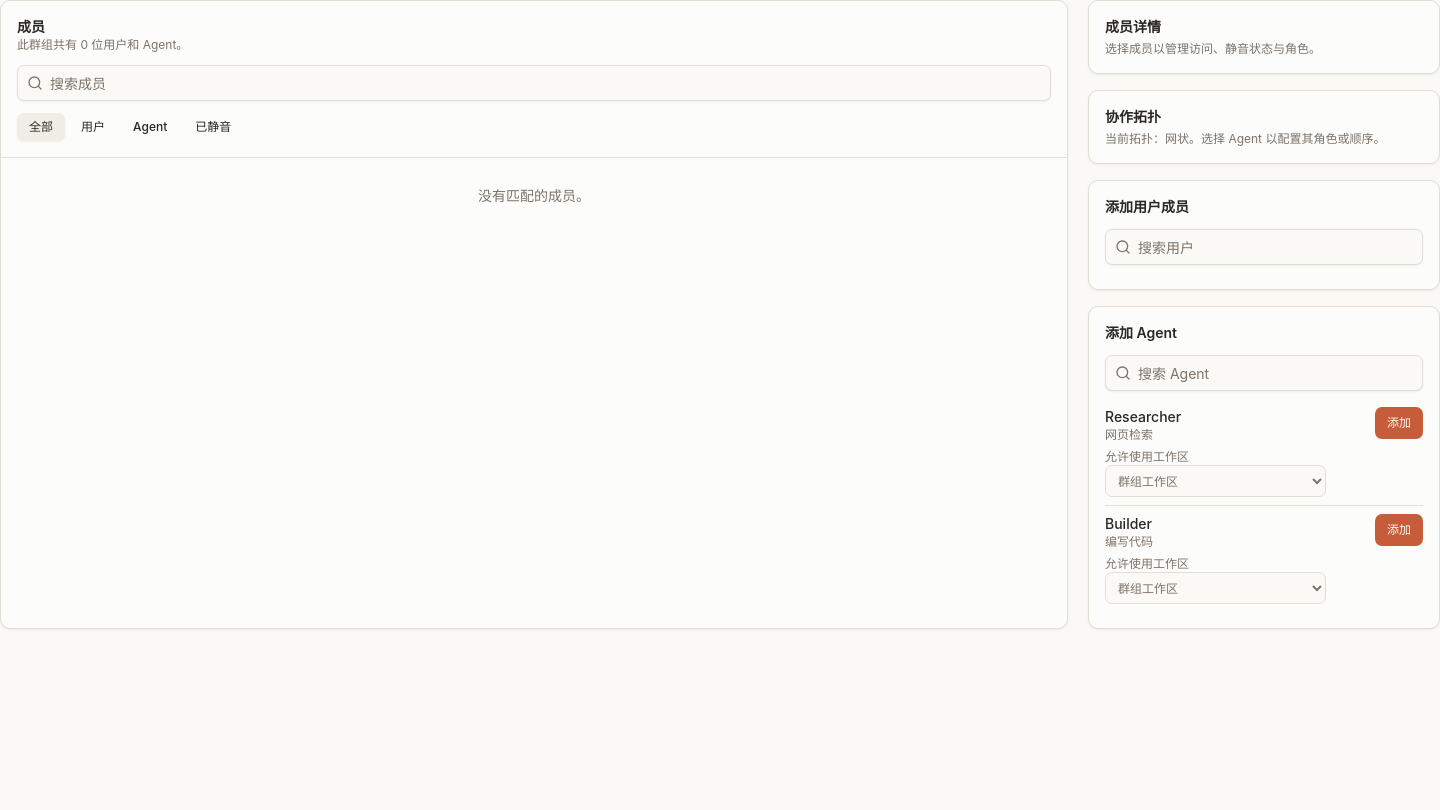
group management i18n › searches addable agents by name and description
Expected: the text "Researcher" is shown, top-left (1105, 408), bottom-right (1181, 425)
Expected: the text "Builder" is shown, top-left (1105, 515), bottom-right (1152, 532)
In the field labelled "搜索 Agent": (1264, 373) top-left (1105, 355), bottom-right (1423, 391), type "代码"
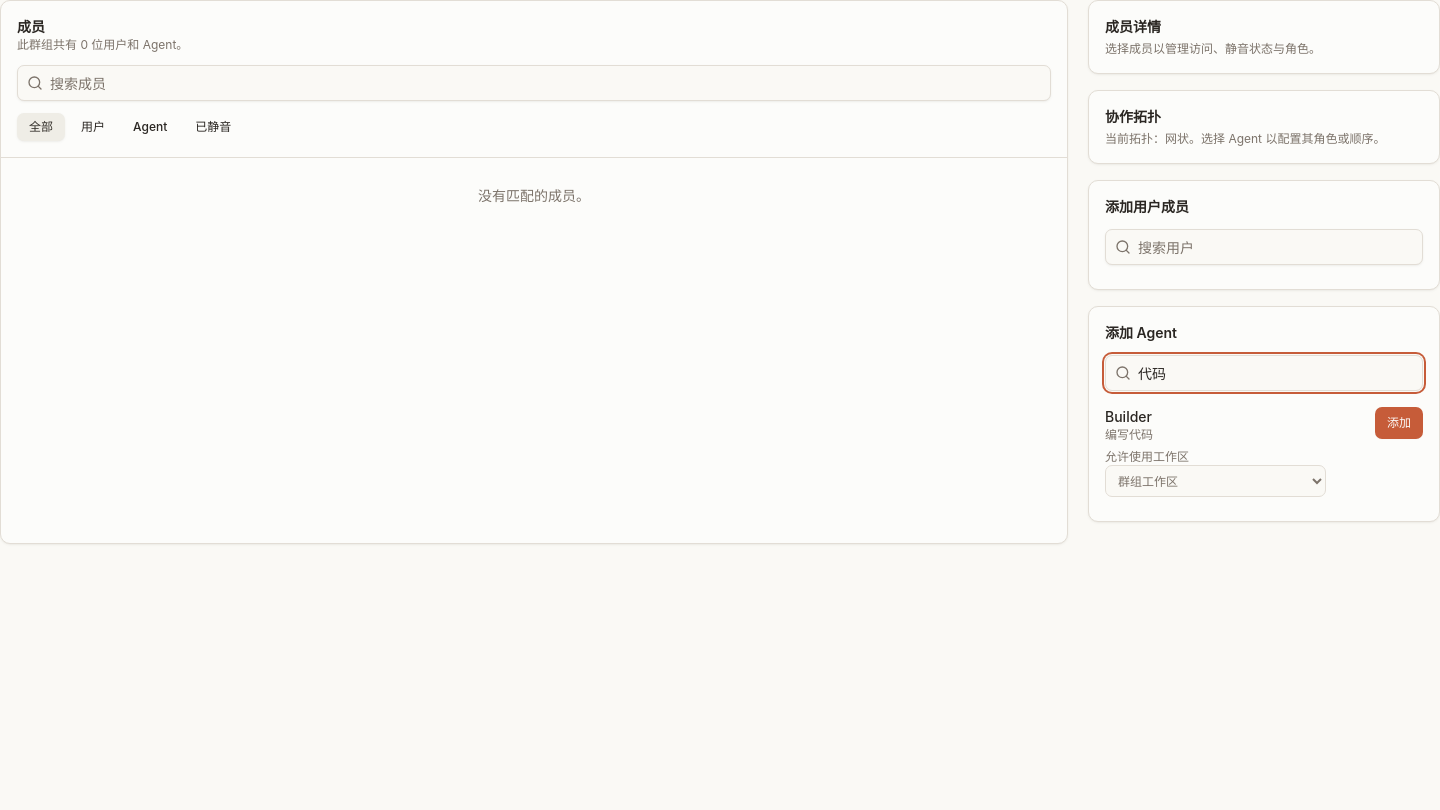
Expected: the text "Builder" is shown, top-left (1105, 408), bottom-right (1152, 425)
Expected: the text "Researcher" is gone
Replace the text in the field named "搜索 Agent" with "missing": (1264, 373) top-left (1105, 355), bottom-right (1423, 391)
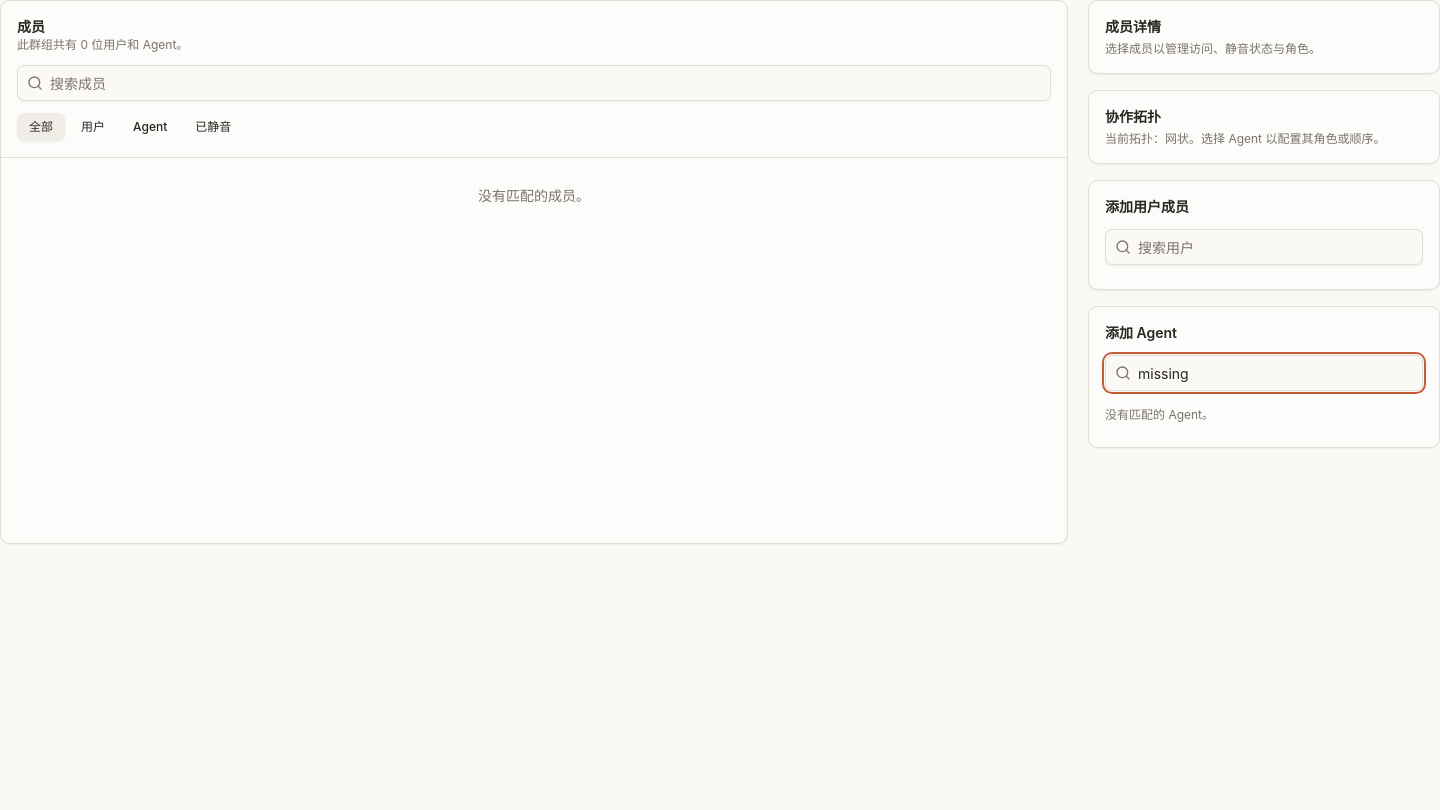
Expected: the list item "没有匹配的 Agent。" is shown, top-left (1105, 407), bottom-right (1214, 422)
